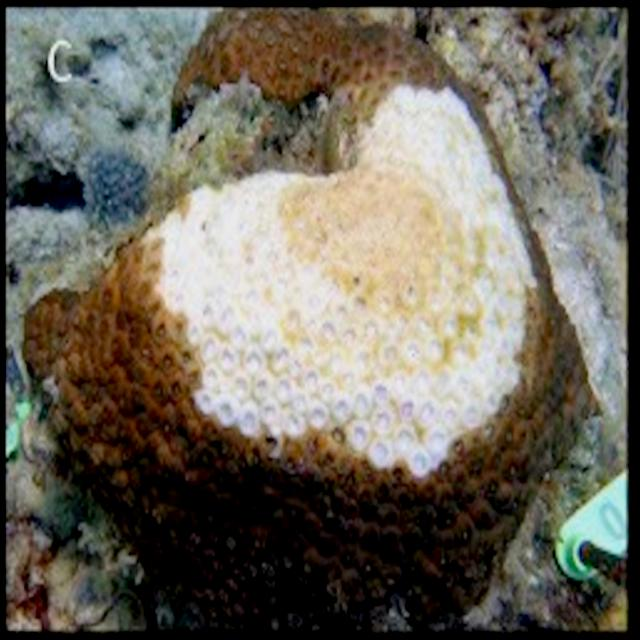Coral: (21, 7, 602, 628)
